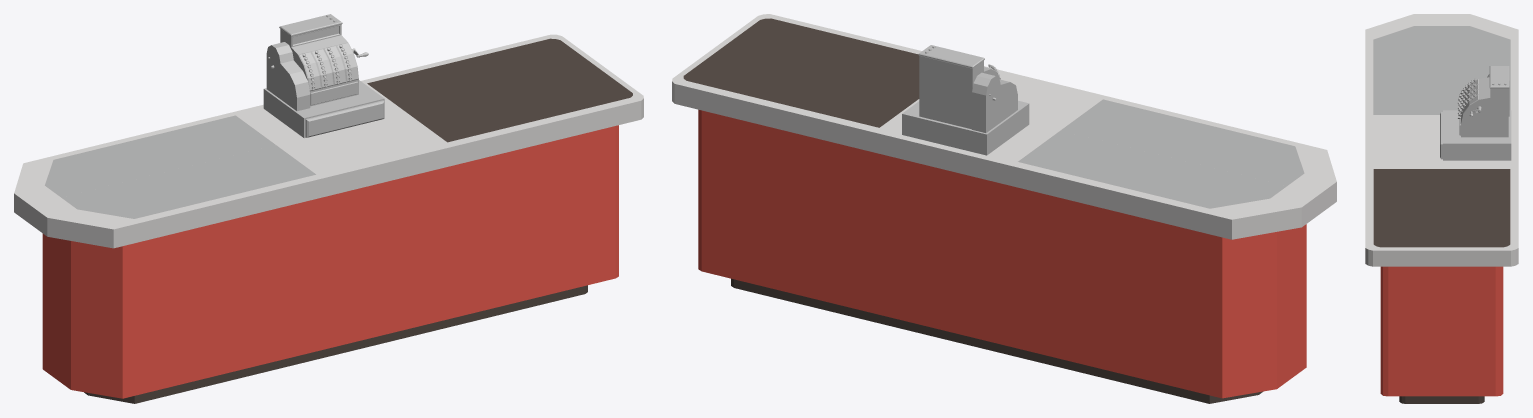
The model's file is cashier_counter.gltf.
3 views of the same model, side by side, from view 1: azimuth 30°, elevation 25°; view 2: azimuth 150°, elevation 25°; view 3: azimuth 270°, elevation 25° (orthographic). The views are drawn at different scales.
Visible parts, largest first — view 1: counter.001, counterTop.005, CashRegister_mesh, counterTop.004, counterTop.001, counterTop.002, counterTop.003, counterTop, counterBottom.001, counter; view 2: counter, counterTop, CashRegister_mesh, counterTop.001, counterTop.004, counterTop.002, counterTop.003, counterTop.005, counterBottom, counter.001; view 3: counter, counter.001, counterTop.005, counterTop.004, CashRegister_mesh, counterTop.002, counterTop.003, counterTop, counterTop.001, counterBottom, counterBottom.001.
Boxes of the visible parts, x1,y1,x2,y2 form: counter.001: [56, 125, 618, 398]; counterTop.005: [30, 66, 643, 248]; CashRegister_mesh: [263, 14, 384, 138]; counterTop.004: [61, 145, 315, 218]; counterTop.001: [45, 115, 275, 197]; counterTop.002: [367, 38, 596, 112]; counterTop.003: [407, 66, 632, 142]; counterTop: [14, 34, 602, 224]; counterBottom.001: [84, 285, 587, 403]; counter: [42, 233, 56, 379]; counter: [698, 109, 1291, 398]; counterTop: [672, 47, 1319, 239]; CashRegister_mesh: [902, 45, 1029, 155]; counterTop.001: [1018, 130, 1286, 208]; counterTop.004: [1061, 99, 1304, 185]; counterTop.002: [683, 48, 919, 127]; counterTop.003: [722, 18, 919, 95]; counterTop.005: [715, 14, 1336, 214]; counterBottom: [731, 278, 1263, 403]; counter.001: [1292, 224, 1306, 377]; counter: [1442, 266, 1503, 396]; counter.001: [1380, 266, 1441, 396]; counterTop.005: [1365, 14, 1441, 266]; counterTop.004: [1373, 26, 1441, 114]; CashRegister_mesh: [1440, 66, 1511, 160]; counterTop.002: [1442, 169, 1510, 247]; counterTop.003: [1373, 169, 1441, 247]; counterTop: [1442, 14, 1518, 266]; counterTop.001: [1442, 26, 1510, 111]; counterBottom: [1442, 396, 1484, 403]; counterBottom.001: [1399, 396, 1441, 403].
Bounding box in the file's own units: 7.42 × 3.47 × 2.03.
